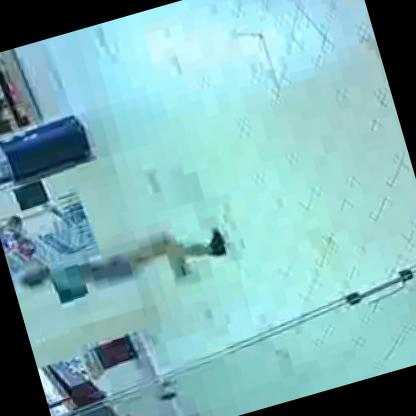Human Body: (18, 210, 235, 328)
